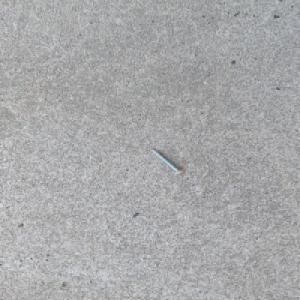Screw: (150, 148, 185, 175)
